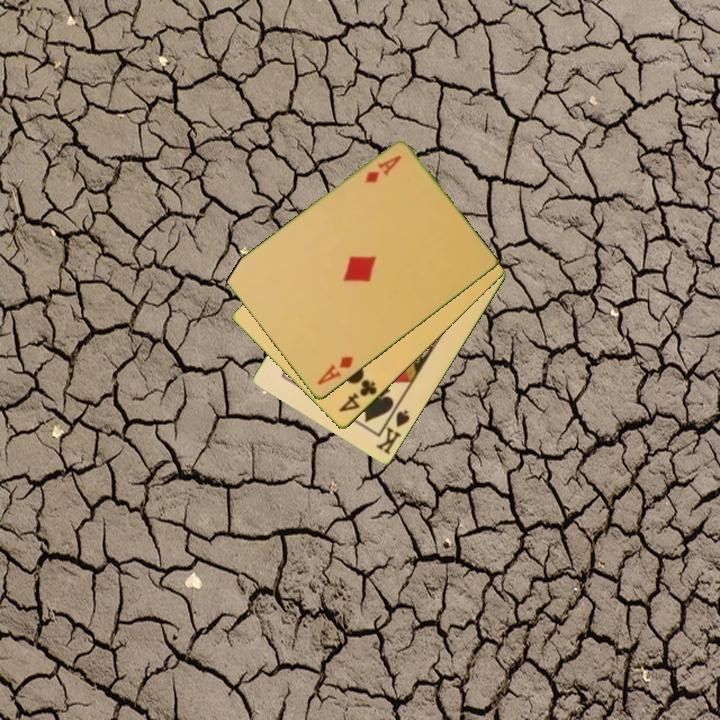4c: (335, 376, 380, 415)
Ad: (313, 353, 356, 388), (361, 152, 404, 186)
Ks: (372, 402, 413, 458)
